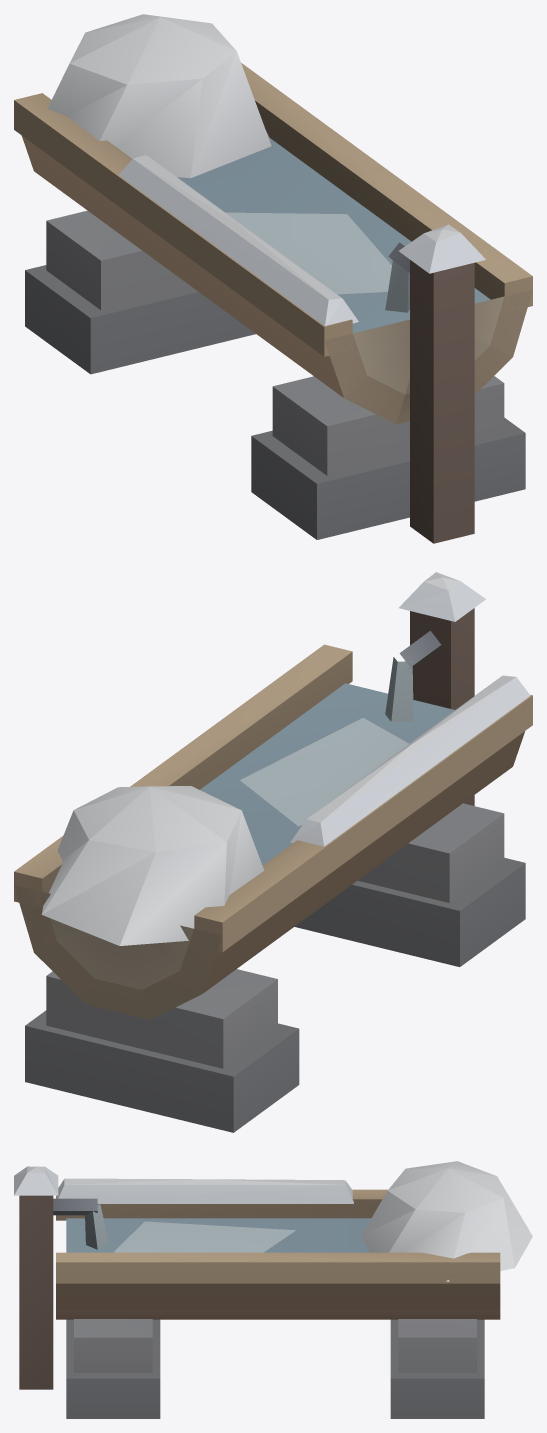
The model's file is trough.lod1.glb.
3 renders of one model, top to bottom at view 1: azimuth 30°, elevation 25°; view 2: azimuth 150°, elevation 25°; view 3: azimuth 270°, elevation 25°, orthographic. The views are drawn at different scales.
Size of the model in its own units: 0.6638 by 0.91 by 1.98.
